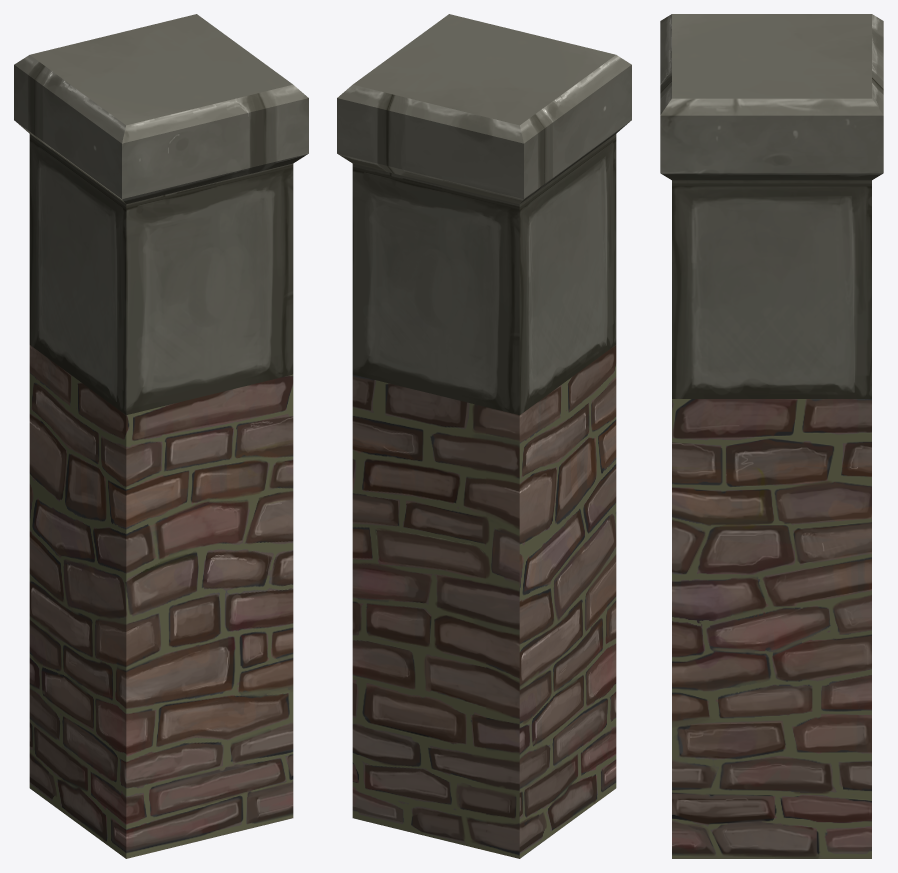
The model's file is ColumnCapital.FBX.
3 views of the same model, side by side, from view 1: azimuth 30°, elevation 25°; view 2: azimuth 150°, elevation 25°; view 3: azimuth 270°, elevation 25° (orthographic). The views are drawn at different scales.
Parts seen in each view (by area): view 1: ColumnCapital; view 2: ColumnCapital; view 3: ColumnCapital.
Part boxes in pixels (x1=…): ColumnCapital: x1=14, y1=14, x2=308, y2=858; ColumnCapital: x1=337, y1=14, x2=631, y2=858; ColumnCapital: x1=660, y1=14, x2=883, y2=858.
Bounding box in the file's own units: 0.6707 × 0.6707 × 2.52.
